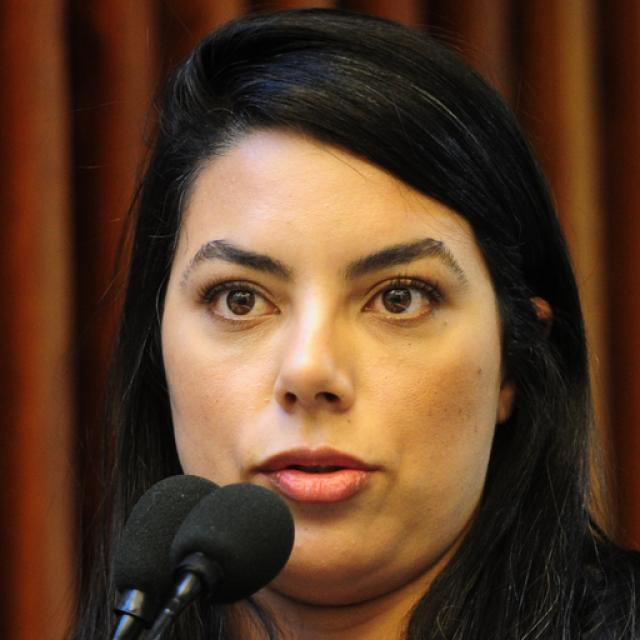neutral: (162, 128, 502, 592)
